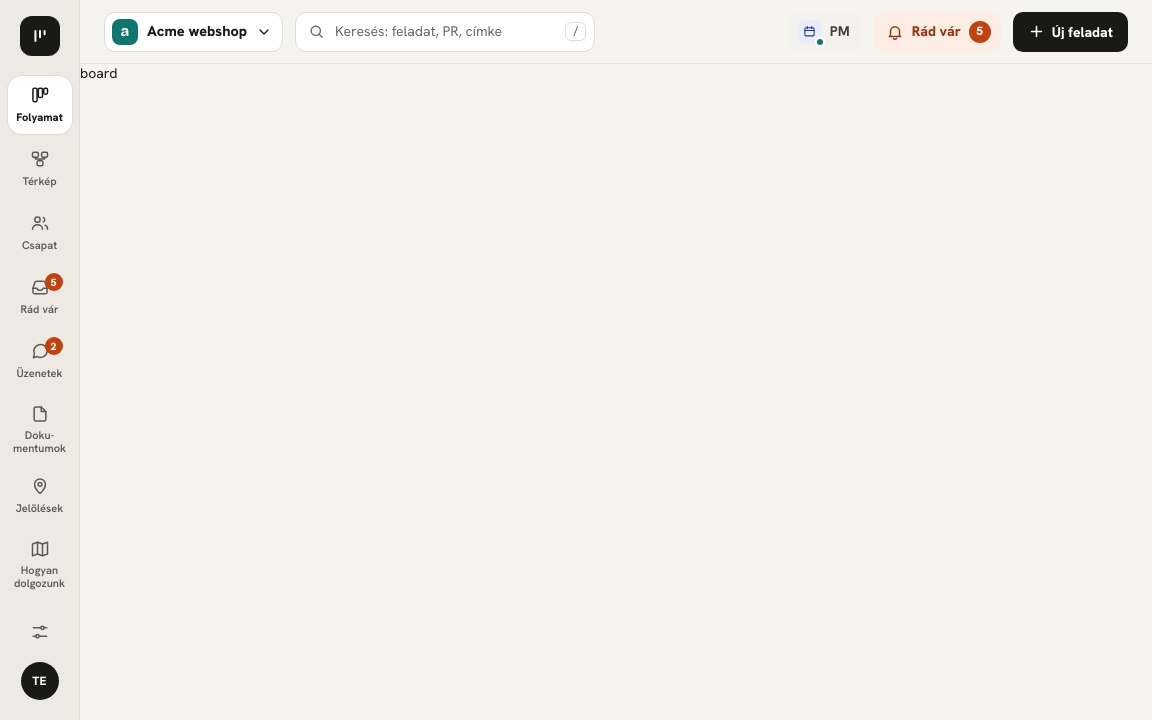
Test case: the Sor view › explains the screen on first use
The width and height of the screenshot is (1152, 720).
Click the button "PM": (826, 32) [790,12,862,52]
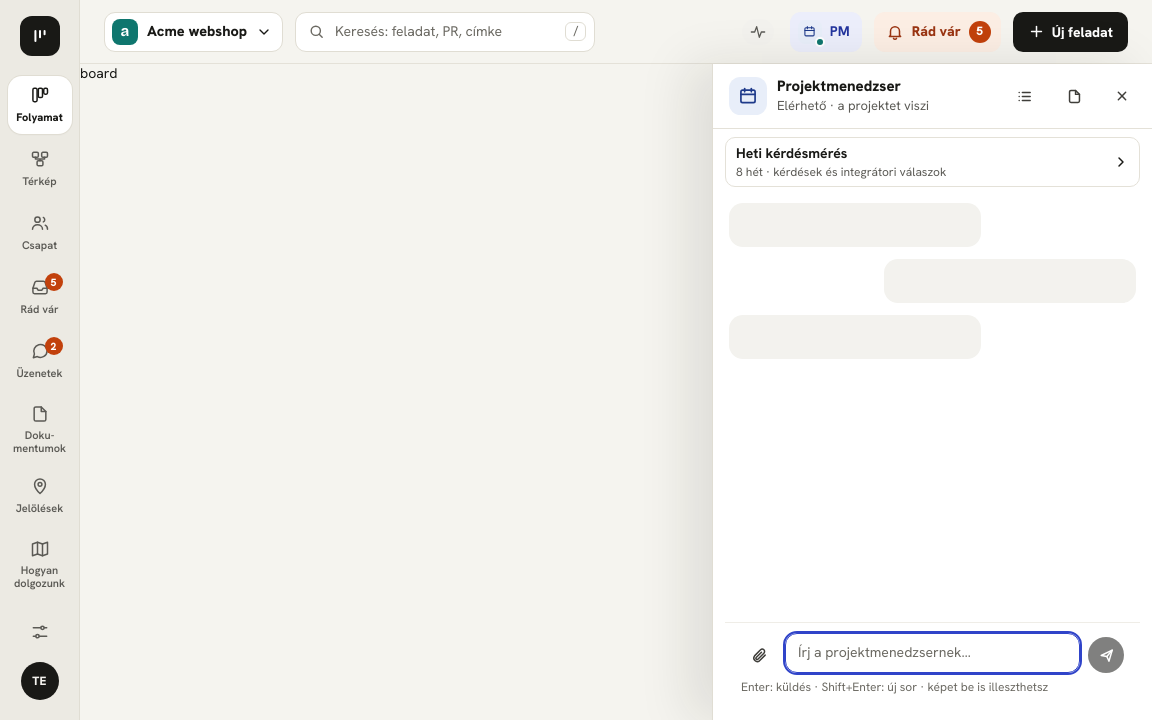
Click the button named "A projektmenedzser sora": (1024, 96) [1004,76,1044,116]
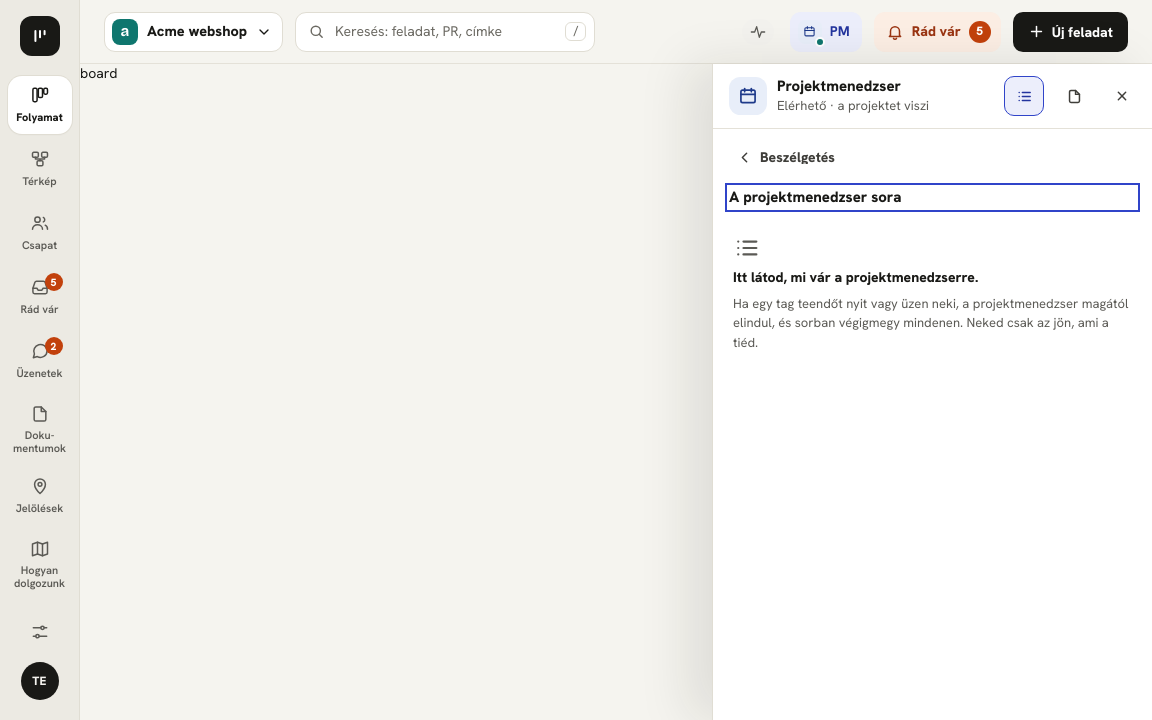
Expected: the heading "A projektmenedzser sora" is shown, [729,187,901,207]
Expected: the heading "Itt látod, mi vár a projektmenedzserre." is shown, [733,268,978,288]
